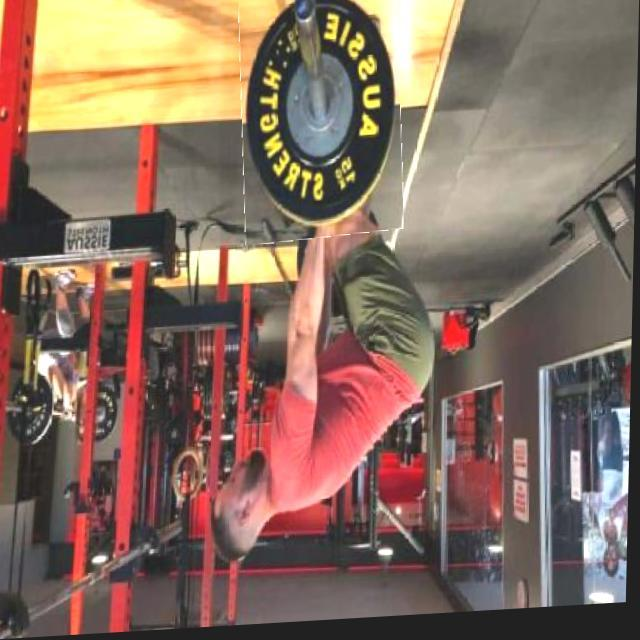barbell: (238, 1, 407, 248)
